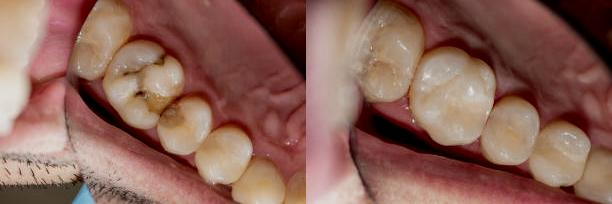Caries: (117, 85, 193, 136)
